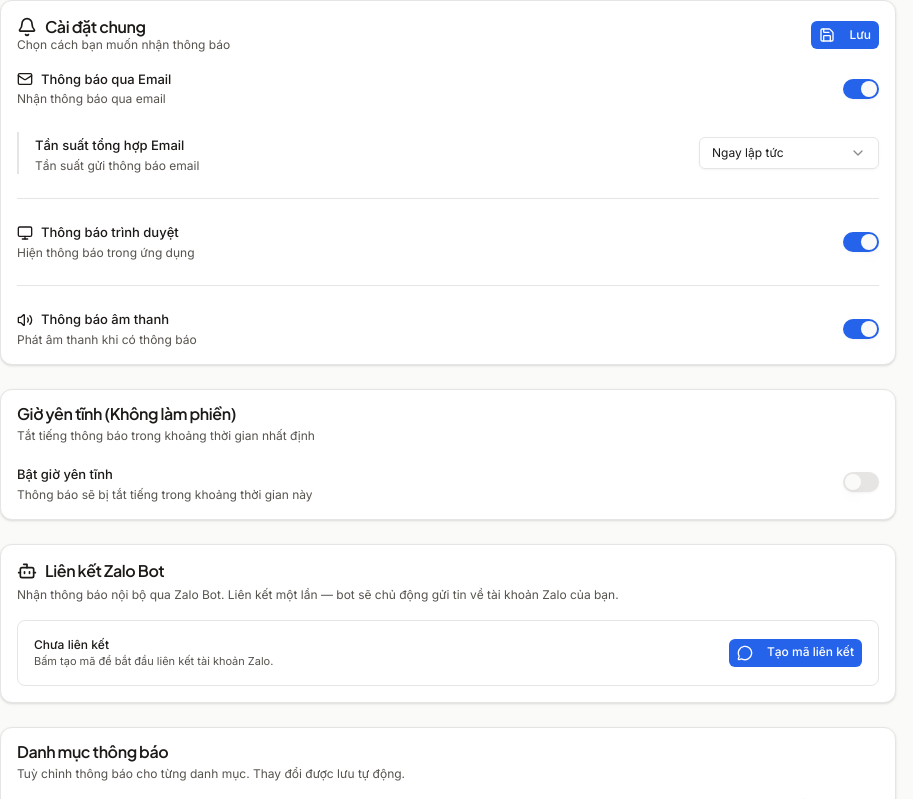
Scenario: Zalo Bot section › Phase 6a: invalidates notificationPreferences cache when link flips active
This screenshot has width=913, height=799.
Step 1. Click the button with test id "zalo-bot-generate" → click(795, 653), box [729,639,862,667]
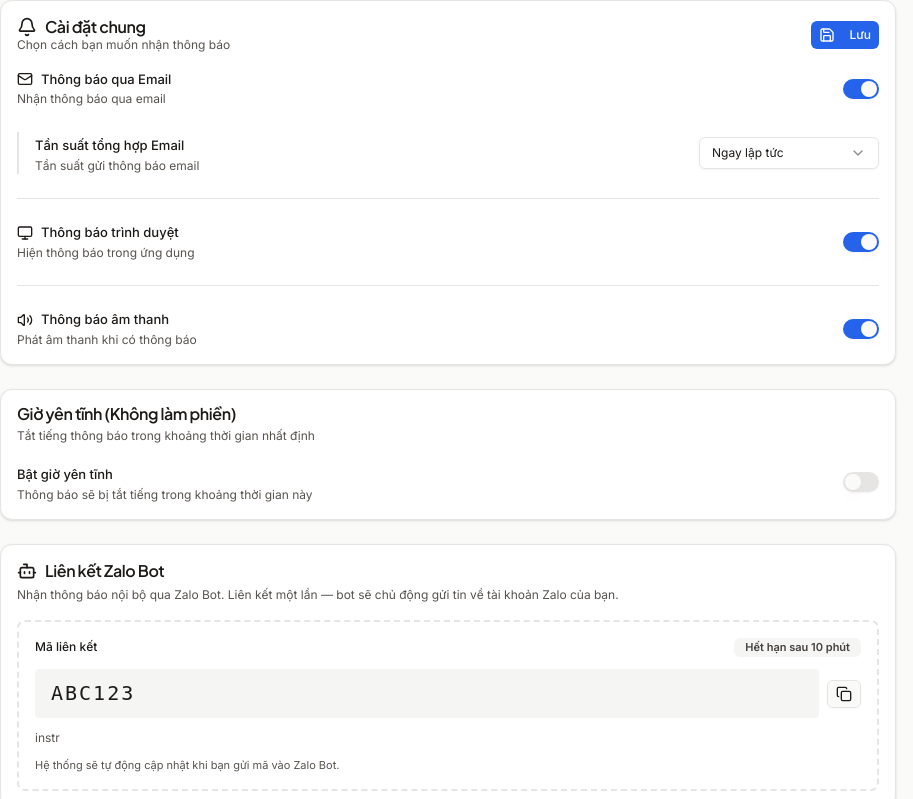
Expected: the text "ABC123" is shown, [35,669,819,718]
